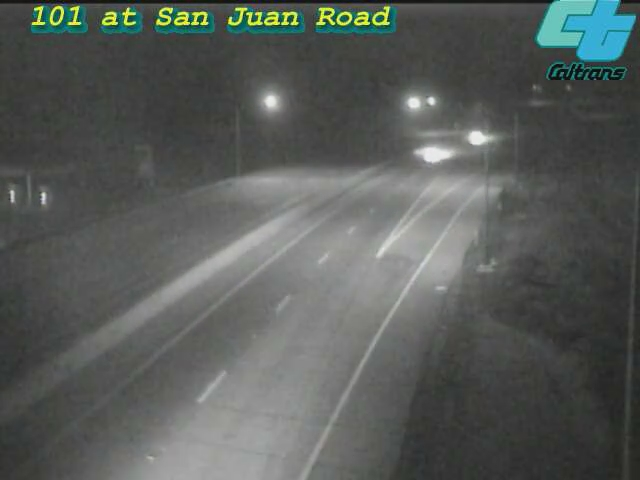vehicle: (450, 113, 500, 163), (409, 130, 459, 180)
